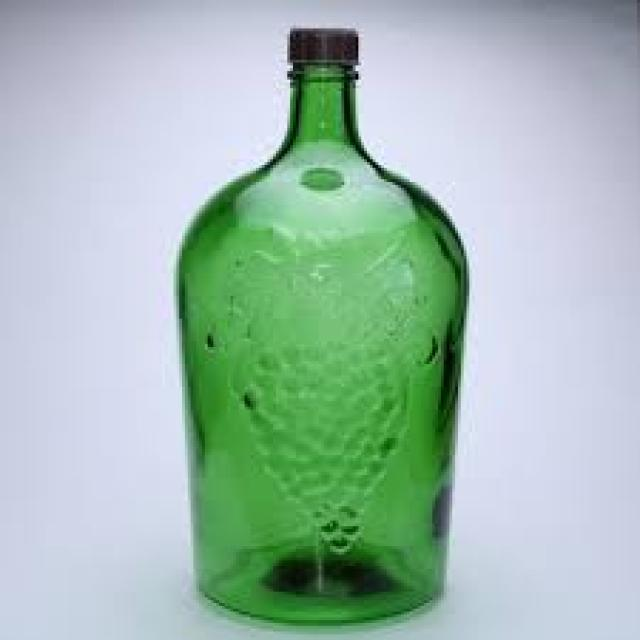glass: (177, 60, 467, 614)
plastic: (282, 26, 359, 68)
